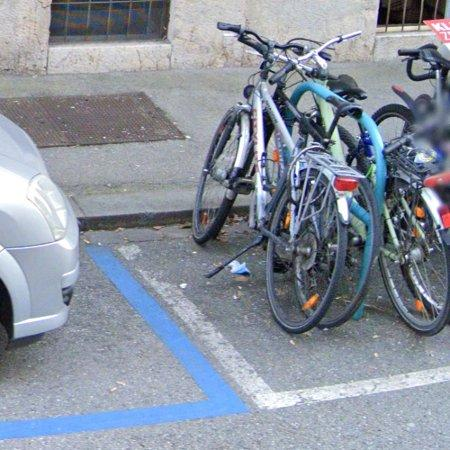bicycles: (193, 23, 363, 334)
